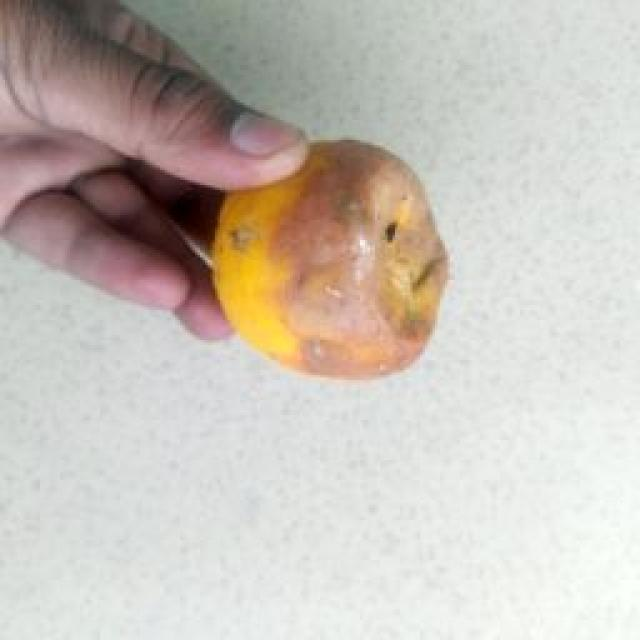Bad_Orange: (174, 142, 448, 377)
